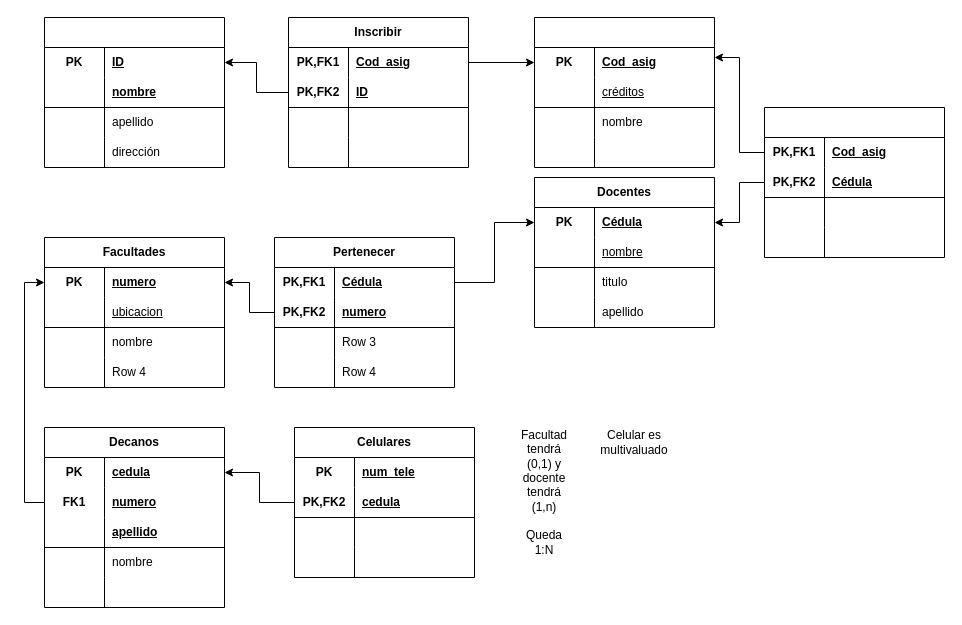
Some shapes in this 962 by 625 pixel diagram are drawn without their labels. Here are the shapes that lost their labels. From the top down, the box of each, then its label:
(44, 16, 224, 168): Estudiantes
(534, 16, 714, 168): Asignaturas
(764, 106, 944, 258): Dictar
